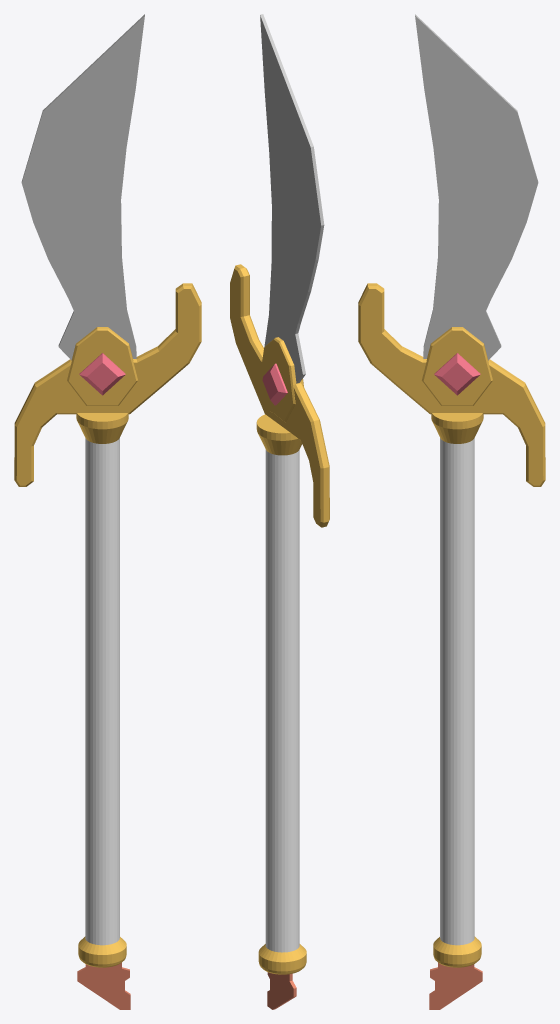
Rendered from AetheriumRuneSpear.fbx.
3 views of the same model, side by side, from view 1: azimuth 90°, elevation 25°; view 2: azimuth 210°, elevation 25°; view 3: azimuth 270°, elevation 25° (orthographic).
Visible parts, largest first — view 1: Spear16; view 2: Spear16; view 3: Spear16.
Part boxes in pixels (box(x1,y1,x2,y2)): Spear16: box(14, 14, 201, 1009); Spear16: box(230, 14, 329, 1009); Spear16: box(358, 14, 545, 1009).
Size of the model in its own units: 28.81 by 604 by 103.
